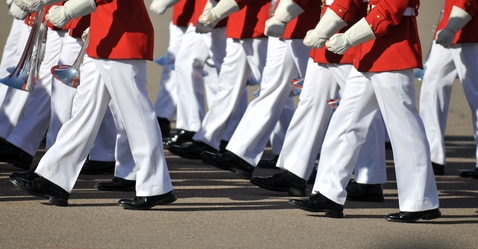feet: (6, 153, 181, 210), (283, 161, 447, 219), (251, 146, 391, 202), (186, 132, 261, 175)
